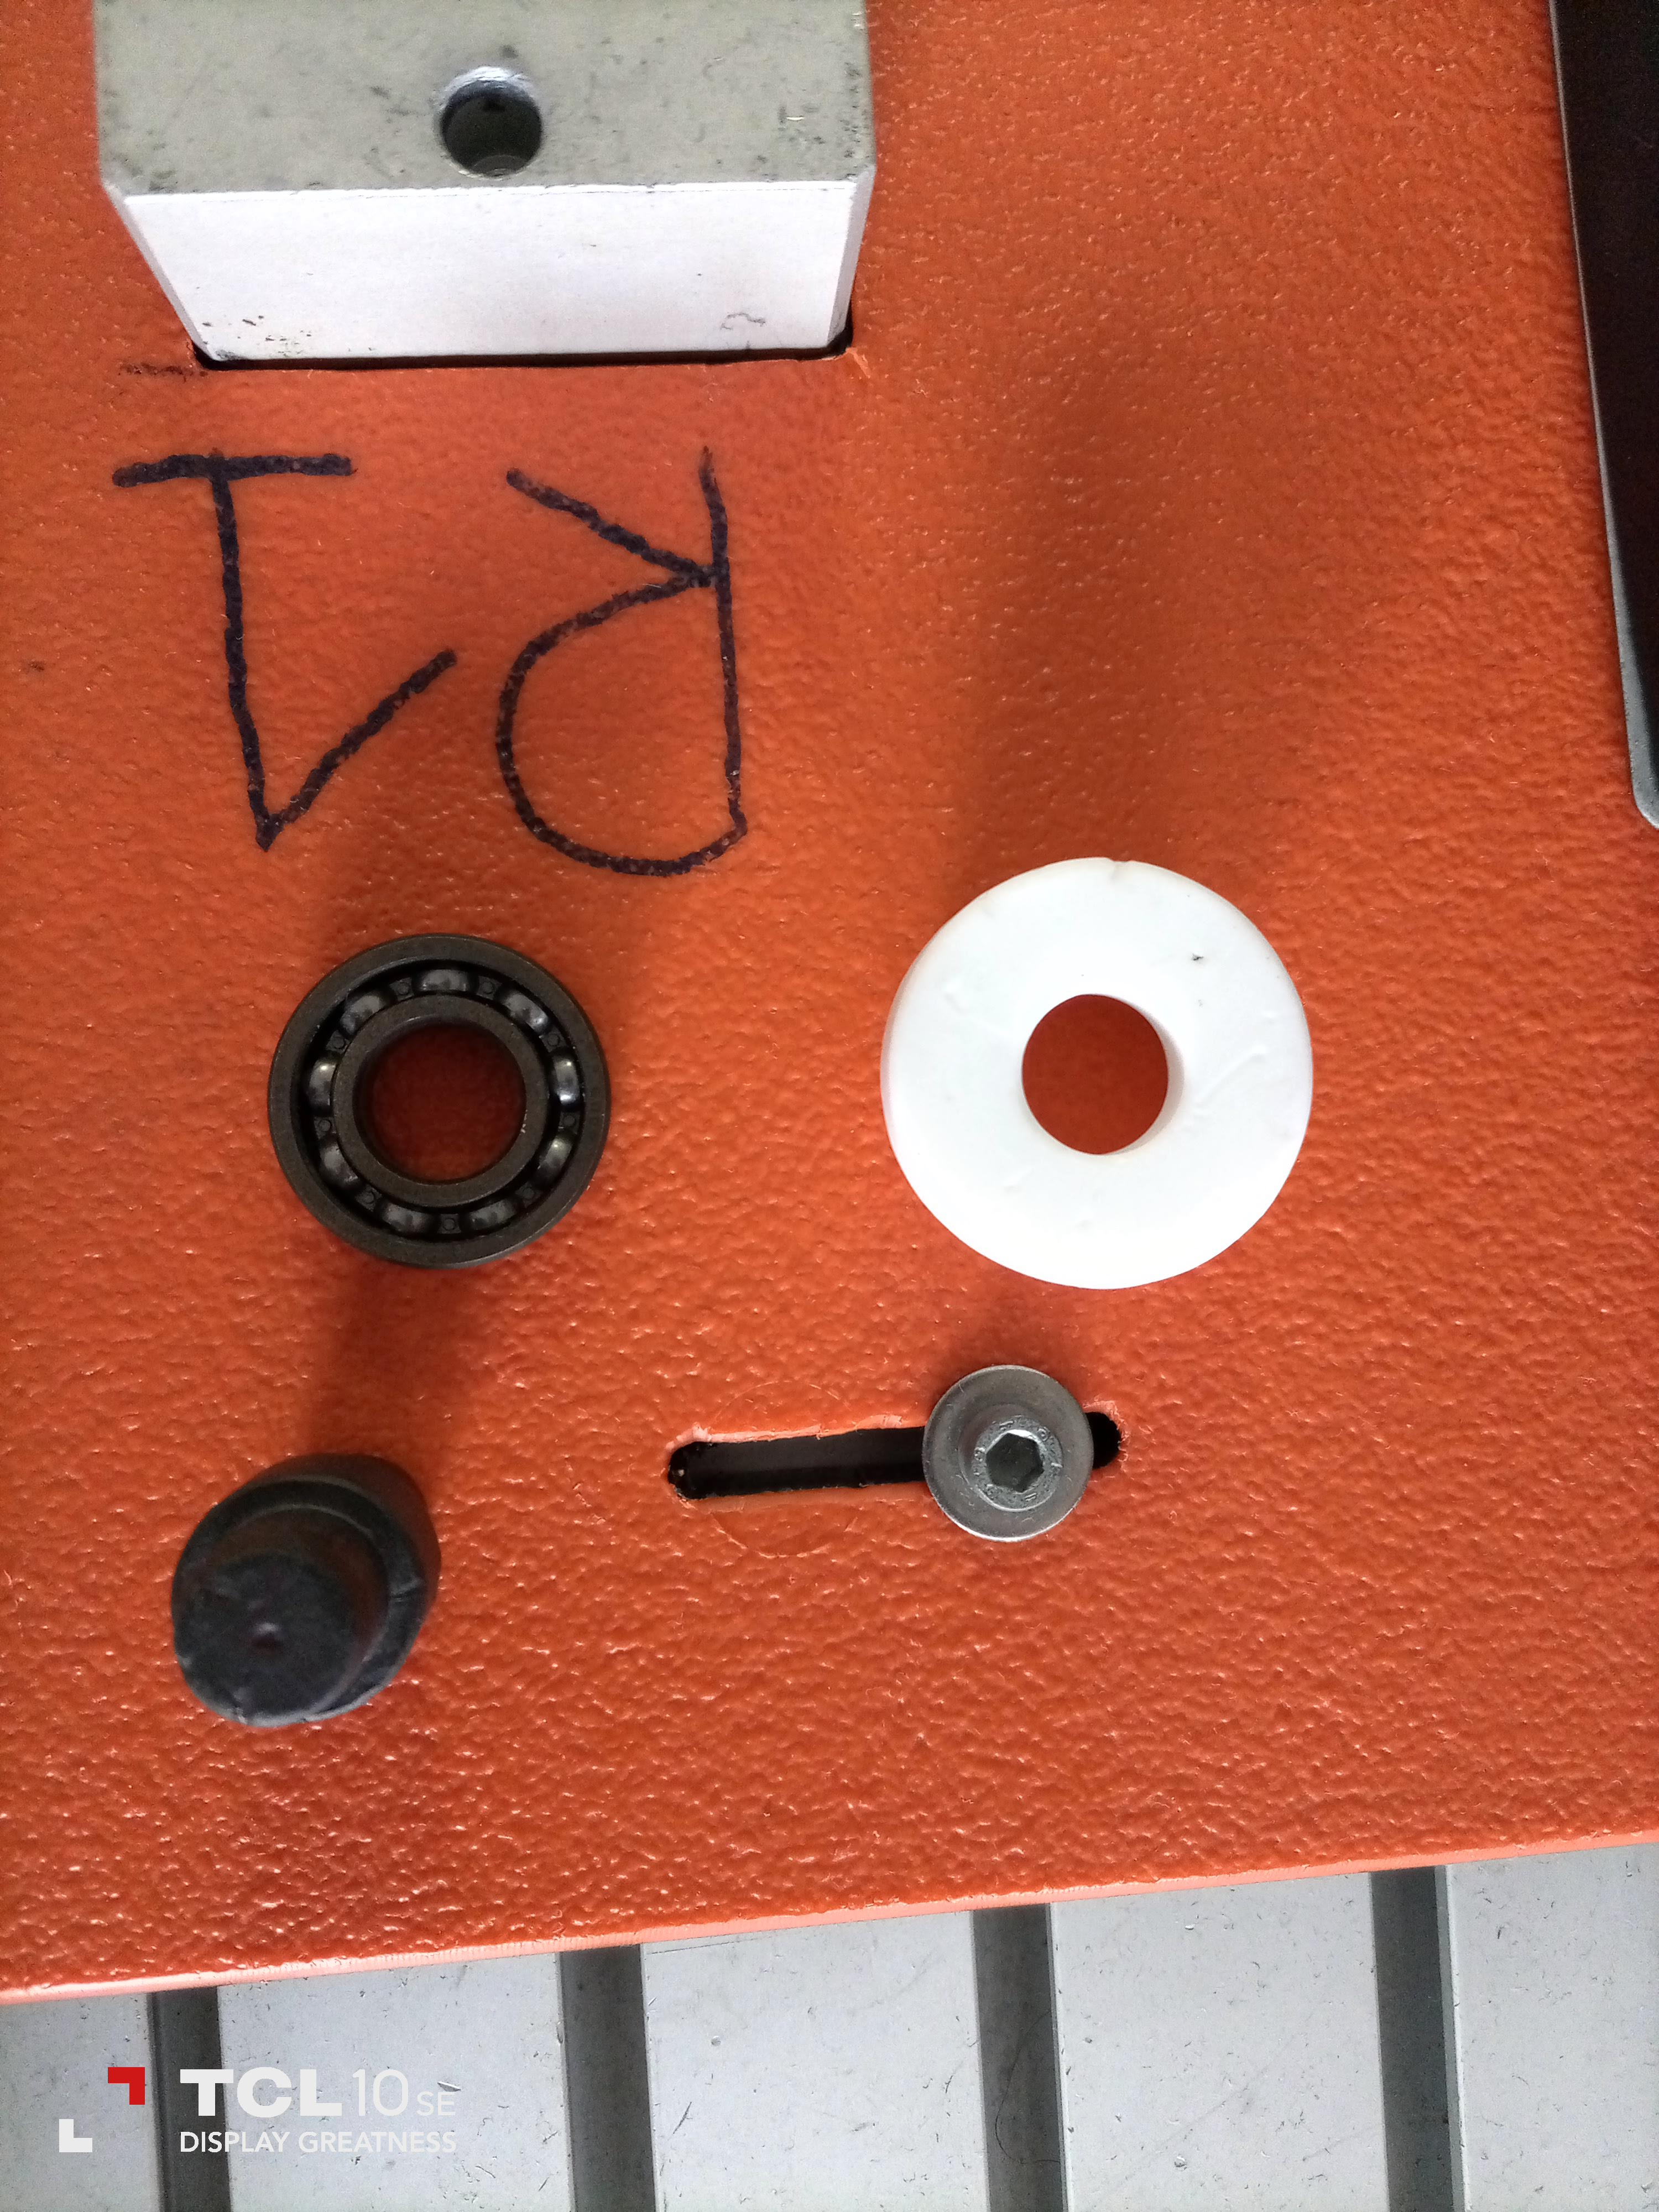Ardatza: (136, 1463, 457, 1730)
Roda: (265, 954, 619, 1268)
Tapa: (873, 848, 1331, 1278)
